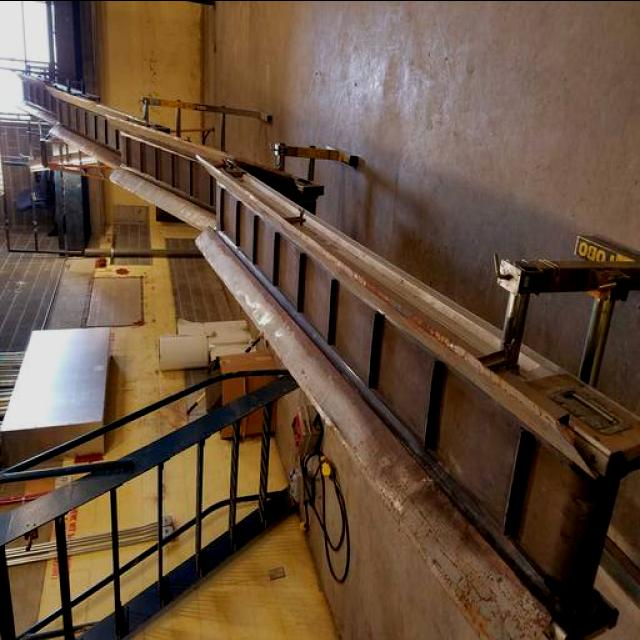conveyor: (14, 72, 602, 611)
